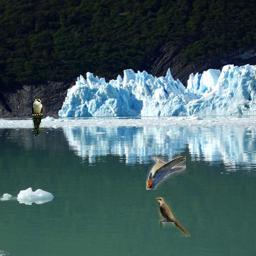Cuckoo: (155, 197, 190, 237), (32, 98, 43, 136)
Swallow: (146, 156, 186, 190)
